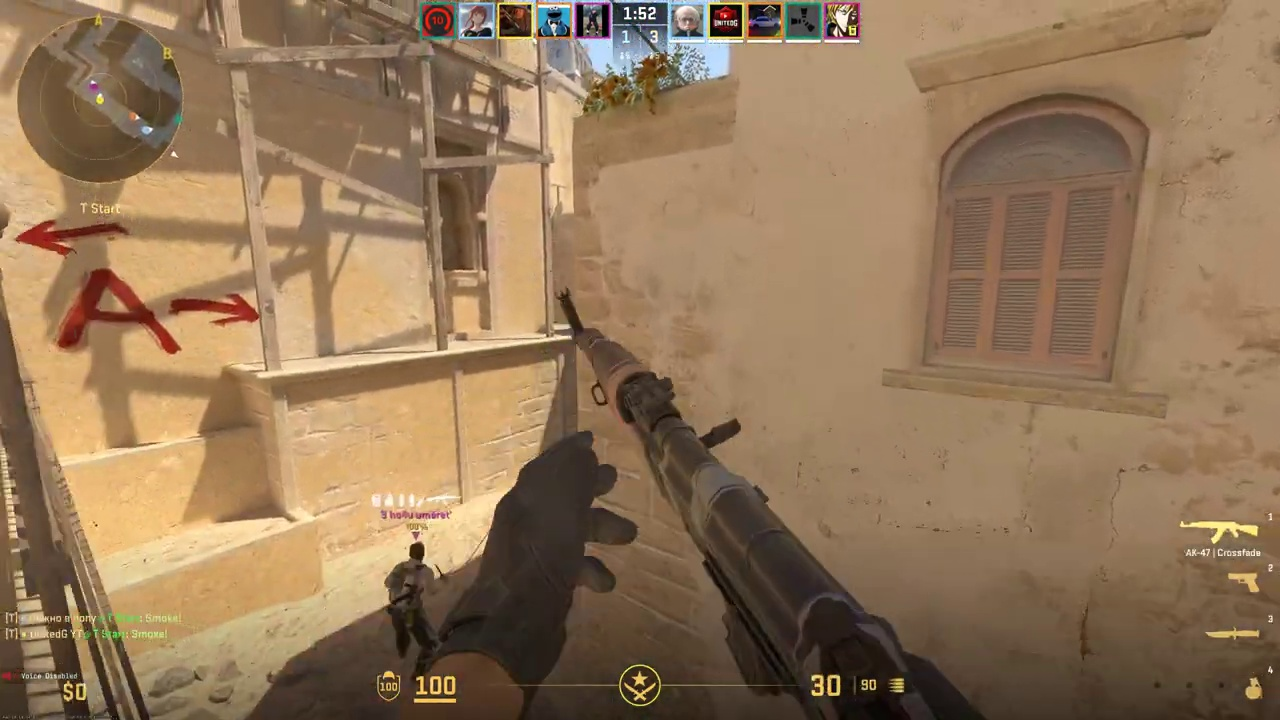Terrorist: (388, 539, 441, 677)
